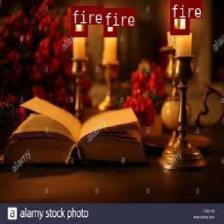fire: (169, 0, 189, 33), (71, 6, 88, 35), (103, 7, 116, 36)
